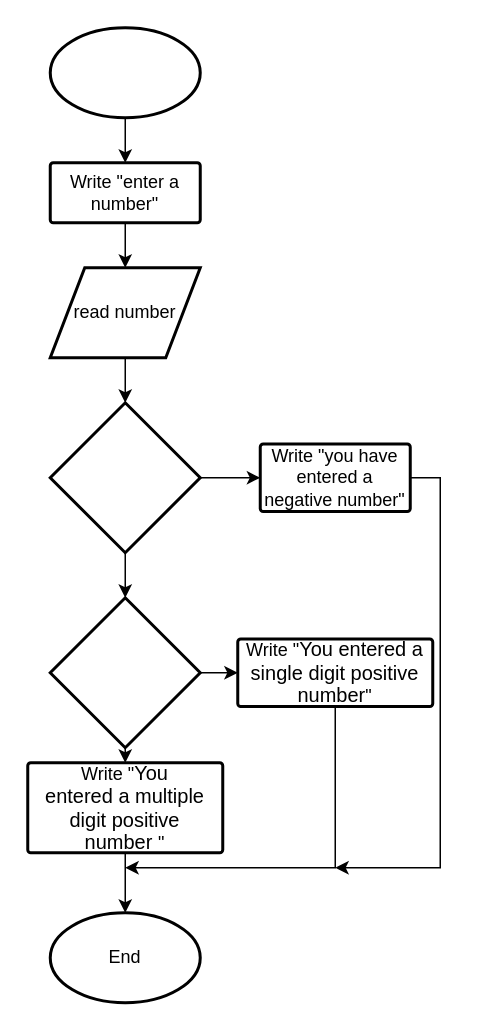
This 479x1029 diagram has some shape labels left out. Here are the shapes that lost their labels. From the top down, the box of each, then its label:
(48, 26, 201, 118): Start
(48, 400, 201, 554): Is number > 0?
(48, 596, 201, 748): Is number > 10?
